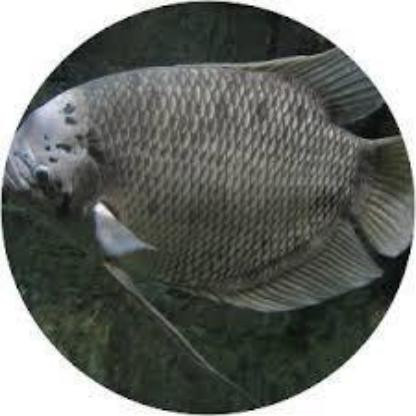gurame: (9, 58, 415, 312)
